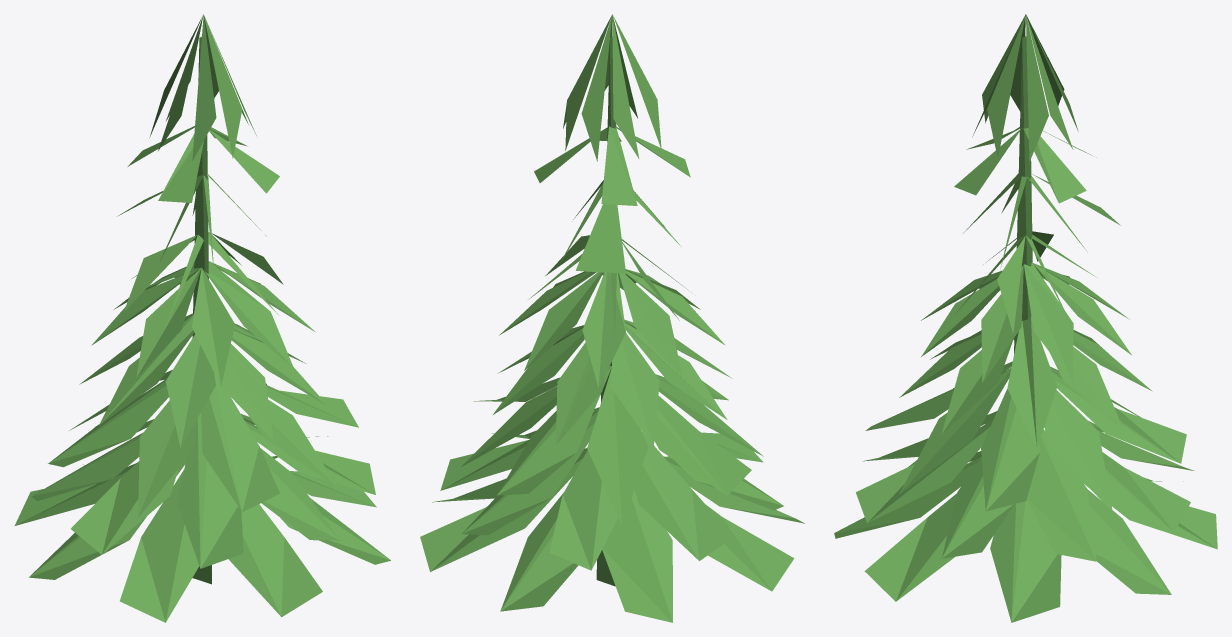
The model's file is Fir_Tree_150face.fbx.
The picture shows the model from 3 angles, left to right: view 1: azimuth 30°, elevation 25°; view 2: azimuth 150°, elevation 25°; view 3: azimuth 270°, elevation 25°; orthographic projection.
Visible parts, largest first — view 1: Fir-tree; view 2: Fir-tree; view 3: Fir-tree.
Part boxes in pixels (x1=…): Fir-tree: x1=14, y1=14, x2=390, y2=622; Fir-tree: x1=420, y1=14, x2=804, y2=622; Fir-tree: x1=834, y1=14, x2=1217, y2=622.
Bounding box in the file's own units: 333 × 538 × 332.
